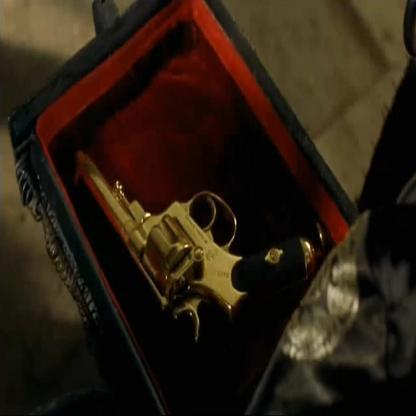gun: (59, 128, 319, 331)
